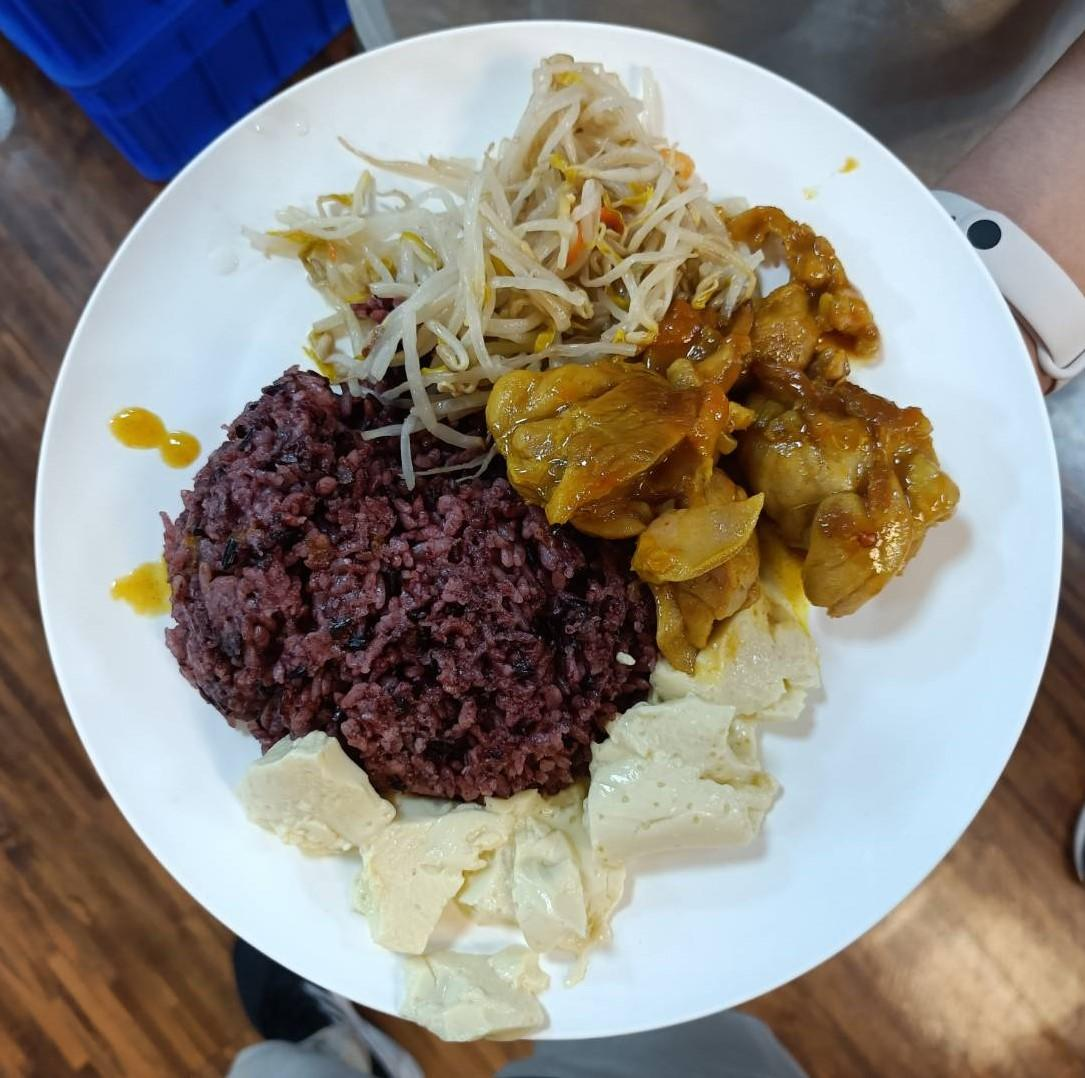big fried chicken leg: (18, 23, 1084, 1030)
braised fish: (163, 385, 674, 790)
braised fish fillet: (228, 643, 853, 990), (296, 78, 738, 405)
braised pork: (494, 223, 943, 610)
